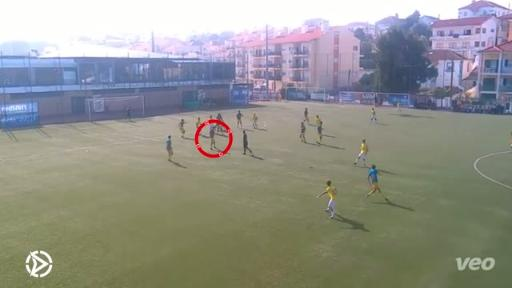highlight_overlay: (195, 120, 234, 159)
